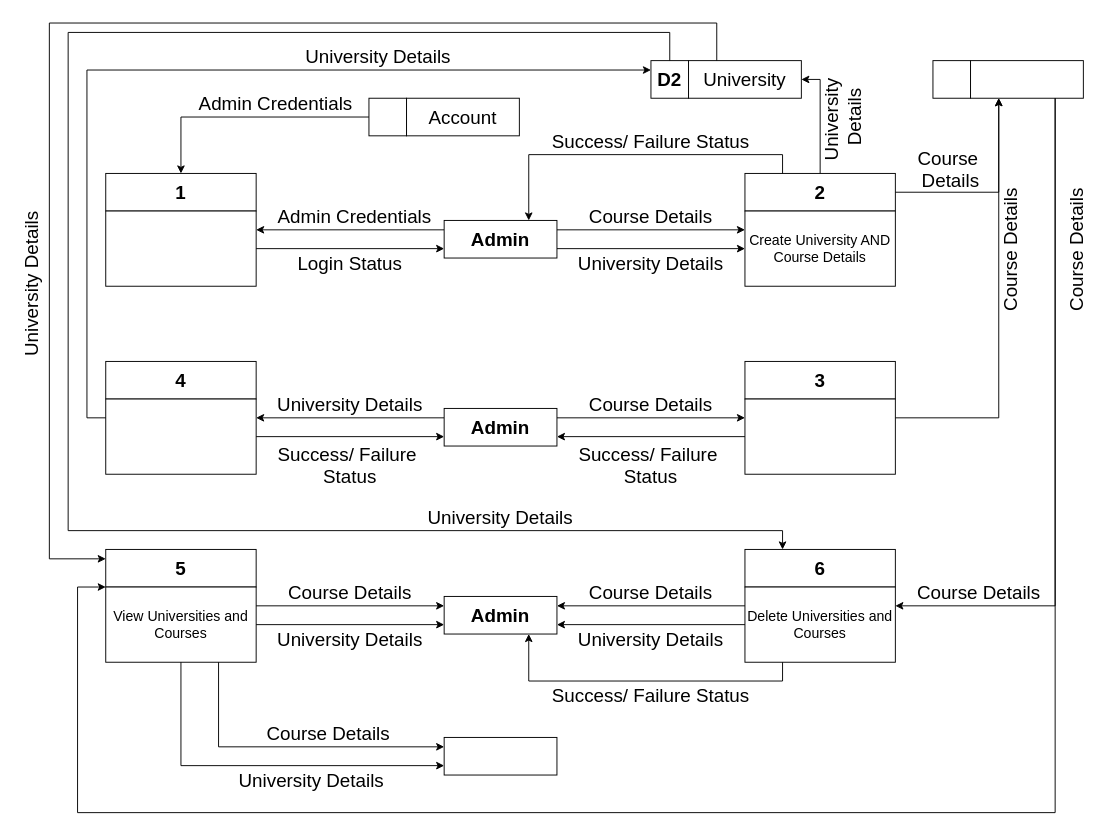
Image size: 1106x837. Some labels were removed from this diagram. The box of each missing label's shape, as (x1, y1, x2, y2) in pixels:
Authentication: (105, 210, 256, 286)
Course: (970, 60, 1083, 98)
D1: (368, 97, 407, 136)
D3: (932, 60, 971, 98)
Edit Courses: (744, 398, 895, 474)
Edit Universities: (105, 398, 256, 474)
Public: (443, 736, 557, 775)
